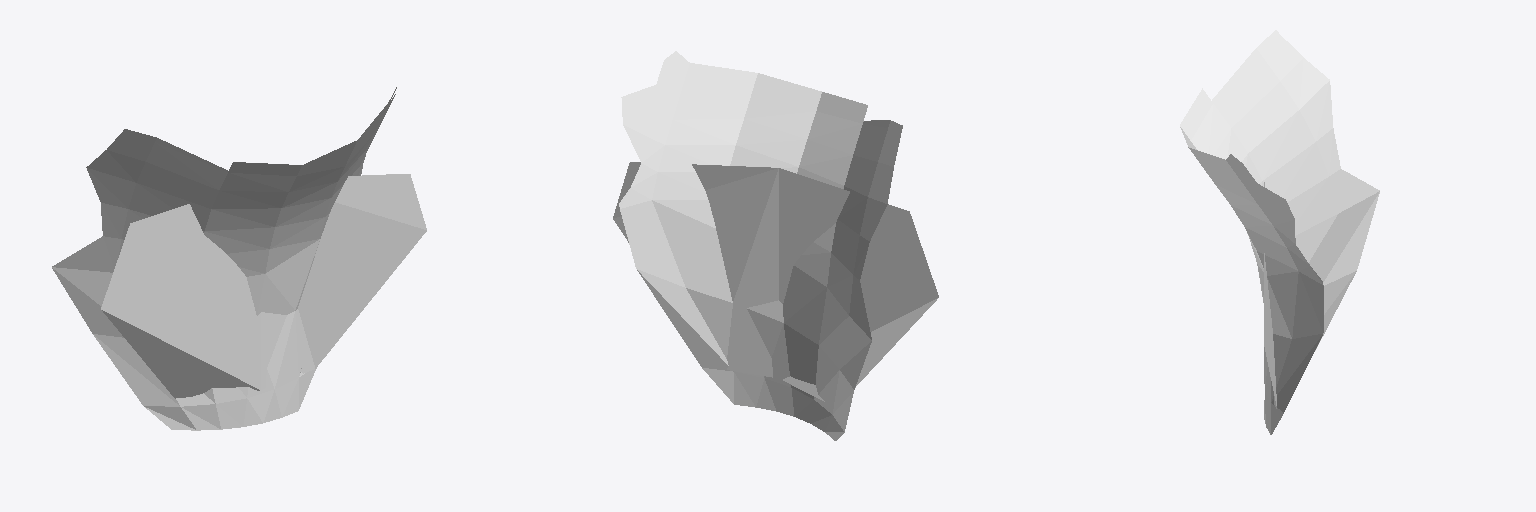
The model's file is grass.obj.
3 views of the same model, side by side, from view 1: azimuth 30°, elevation 25°; view 2: azimuth 150°, elevation 25°; view 3: azimuth 270°, elevation 25° (orthographic).
Visible parts, largest first — view 1: obj1; view 2: obj1; view 3: obj1.
Part boxes in pixels (x1,y1,x2,y2): obj1: (52,87,426,430); obj1: (613,51,938,440); obj1: (1180,30,1379,434).
Size of the model in its own units: 1.1 by 1.04 by 0.5858.